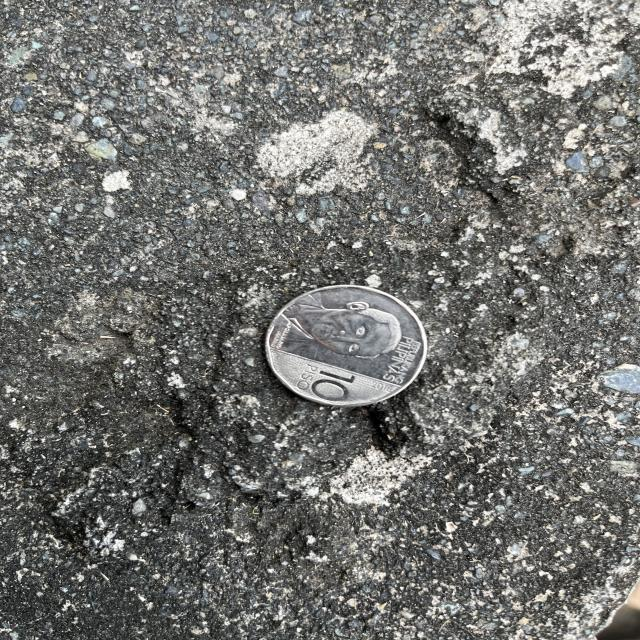10_New_Front: (294, 362, 367, 408)
